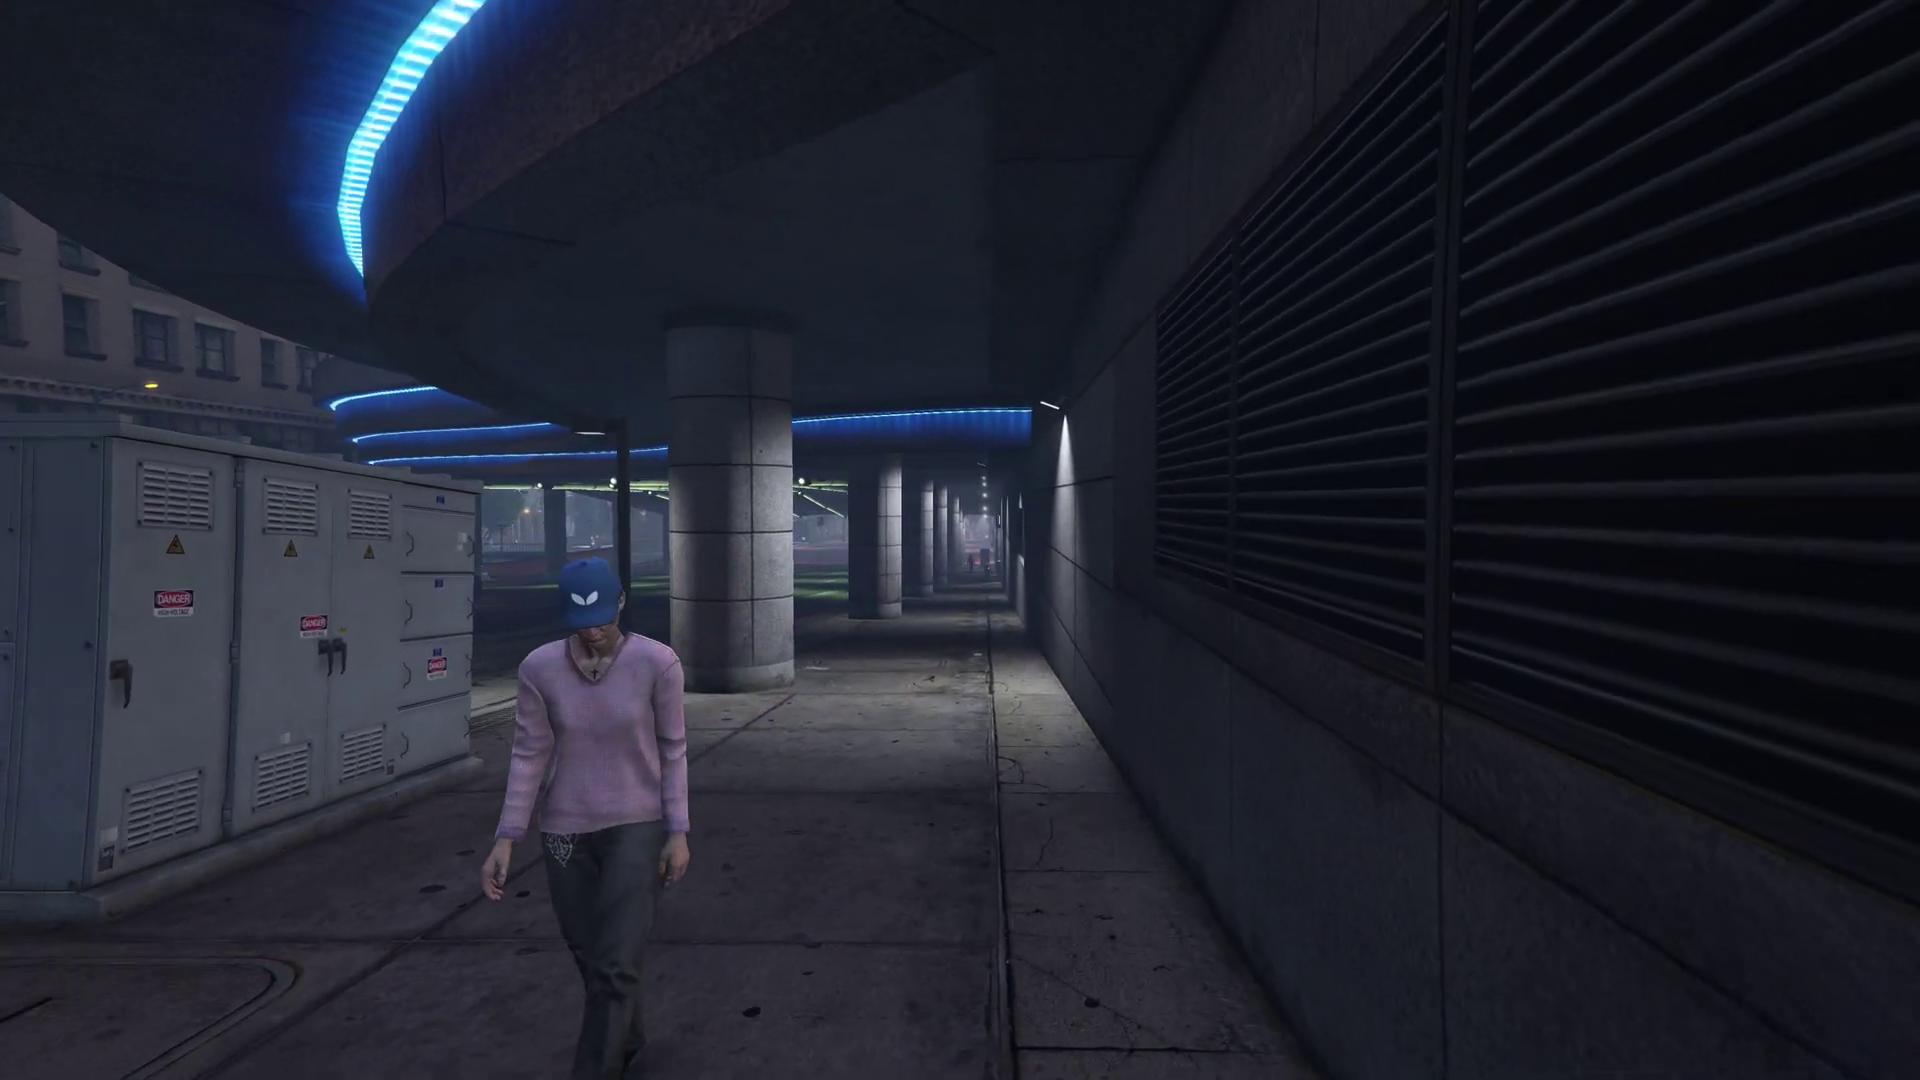person: (476, 557, 694, 1080), (966, 554, 974, 572)
